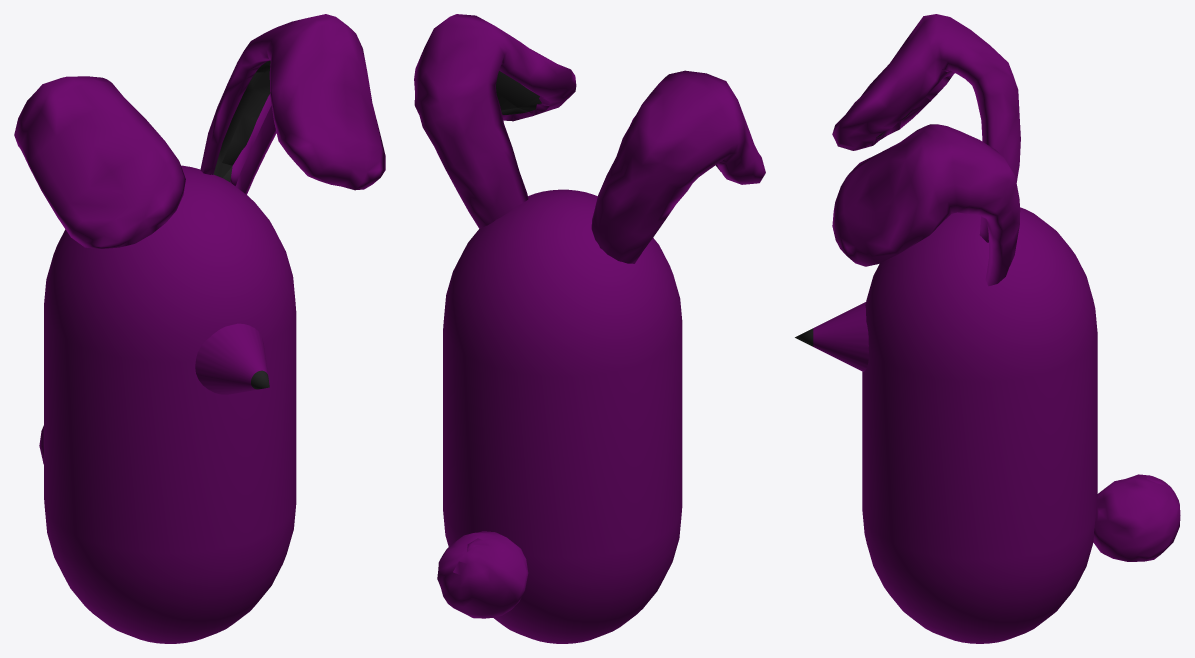
Rendered from NPC_Bunny.fbx.
The picture shows the model from 3 angles, left to right: view 1: azimuth 30°, elevation 25°; view 2: azimuth 150°, elevation 25°; view 3: azimuth 270°, elevation 25°; orthographic projection. The views are drawn at different scales.
Visible parts, largest first — view 1: Bunny; view 2: Bunny; view 3: Bunny.
Part boxes in pixels (<box>): Bunny: <box>14,14,385,643</box>; Bunny: <box>414,14,765,643</box>; Bunny: <box>795,14,1180,643</box>.
Size of the model in its own units: 1.56 by 2.63 by 1.64.
